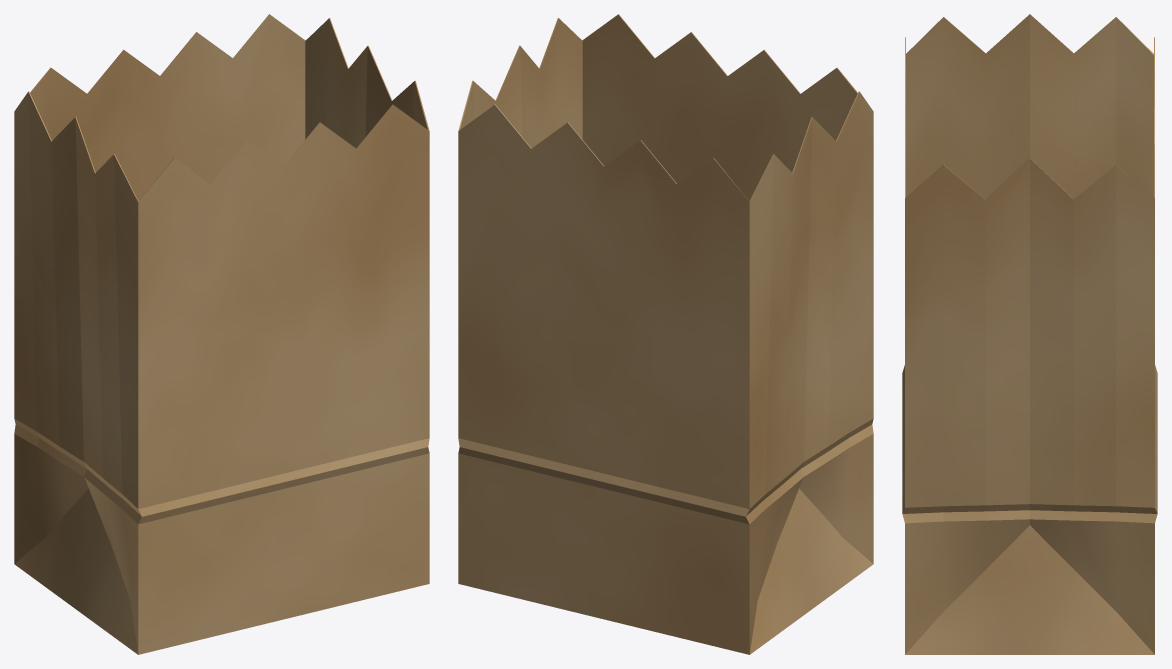
File: PaperBag.fbx
3 views of the same model, side by side, from view 1: azimuth 30°, elevation 25°; view 2: azimuth 150°, elevation 25°; view 3: azimuth 270°, elevation 25° (orthographic).
Parts seen in each view (by area): view 1: PaperBag; view 2: PaperBag; view 3: PaperBag.
Boxes of the visible parts, x1,y1,x2,y2 form: PaperBag: (14, 14, 429, 654); PaperBag: (458, 14, 873, 654); PaperBag: (902, 14, 1157, 654).
Bounding box in the file's own units: 80.41 × 125 × 58.39.
1 material, 1 textured.
